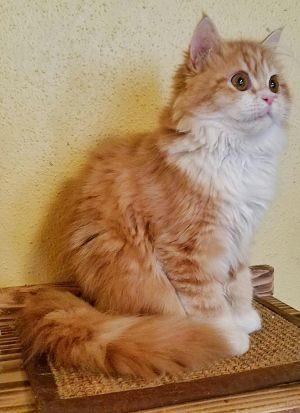persian: (166, 12, 300, 147)
